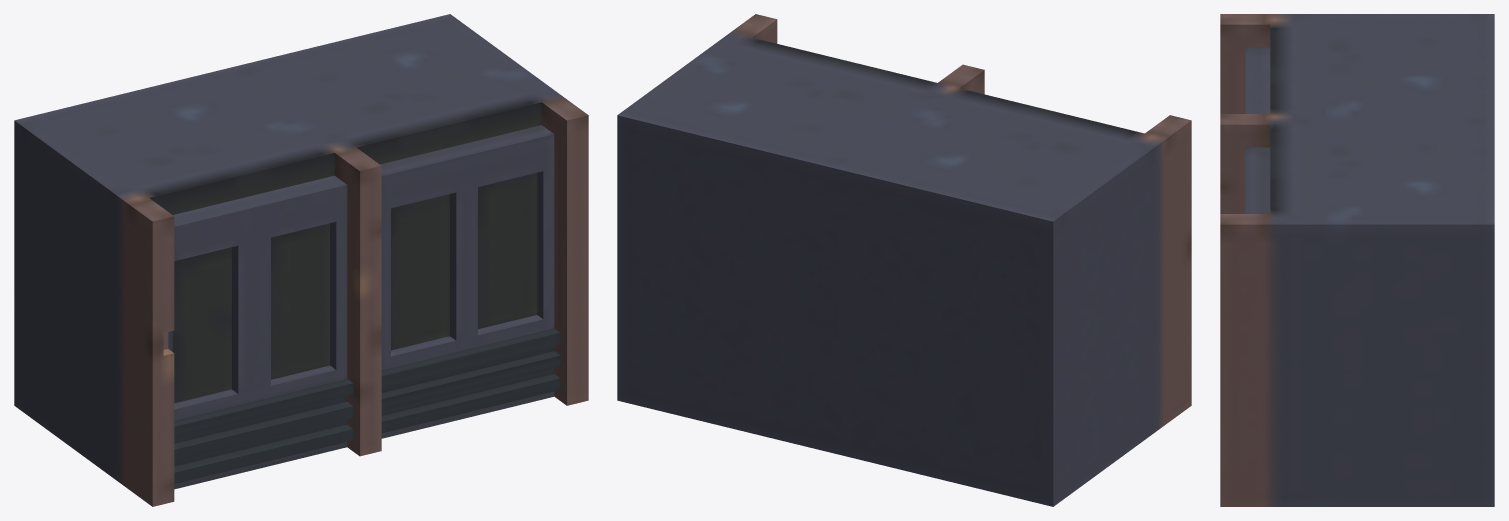
The model's file is BuildingBlock_18.glb.
3 views of the same model, side by side, from view 1: azimuth 30°, elevation 25°; view 2: azimuth 150°, elevation 25°; view 3: azimuth 270°, elevation 25° (orthographic).
Parts seen in each view (by area): view 1: BuildingBlock_18; view 2: BuildingBlock_18; view 3: BuildingBlock_18.
Boxes of the visible parts, x1,y1,x2,y2 form: BuildingBlock_18: (14,14,588,506); BuildingBlock_18: (617,14,1191,506); BuildingBlock_18: (1220,14,1494,506).
Size of the model in its own units: 4 by 2.5 by 2.2.
Materials: 1 (1 with a texture image).
